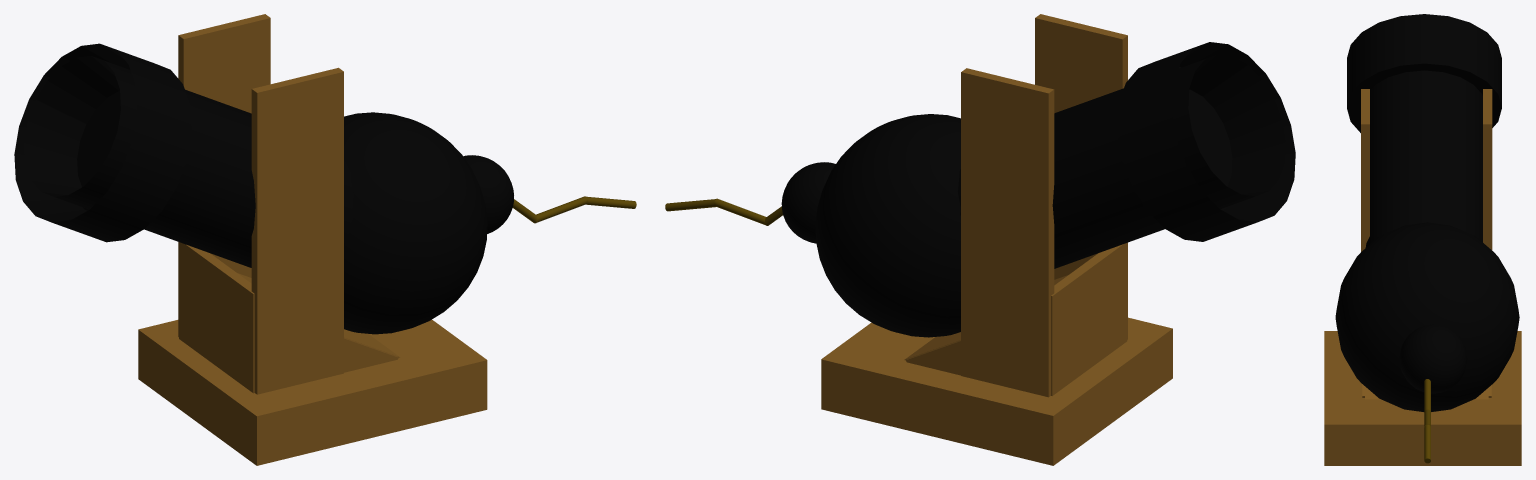
File: taihou.fbx
3 renders of one model, left to right at view 1: azimuth 30°, elevation 25°; view 2: azimuth 150°, elevation 25°; view 3: azimuth 270°, elevation 25°, orthographic. The views are drawn at different scales.
Visible parts, largest first — view 1: pCube2, pCube3, pSphere1, pCylinder1, pCylinder2, pCube5, pCube1, pSphere2, pCylinder6, pCube6; view 2: pCube1, pSphere1, pCube3, pCylinder1, pCylinder2, pCube5, pCube2, pSphere2, pCylinder6, pCube7; view 3: pSphere1, pCylinder1, pCube3, pCylinder2, pSphere2, pCube1, pCube2, pCylinder6.
Part boxes in pixels (bbox=[...]): pCube2: bbox=[251, 67, 343, 394]; pCube3: bbox=[138, 319, 487, 465]; pSphere1: bbox=[344, 112, 487, 334]; pCylinder1: bbox=[24, 56, 353, 267]; pCylinder2: bbox=[14, 43, 191, 242]; pCube5: bbox=[179, 242, 254, 393]; pCube1: bbox=[178, 14, 270, 336]; pSphere2: bbox=[463, 155, 513, 233]; pCylinder6: bbox=[512, 196, 636, 223]; pCube6: bbox=[344, 338, 398, 372]; pCube1: bbox=[961, 68, 1054, 397]; pSphere1: bbox=[815, 114, 960, 337]; pCube3: bbox=[821, 317, 1172, 465]; pCylinder1: bbox=[958, 54, 1285, 268]; pCylinder2: bbox=[1117, 42, 1295, 241]; pCube5: bbox=[1051, 243, 1127, 395]; pCube2: bbox=[1035, 14, 1127, 339]; pSphere2: bbox=[781, 162, 835, 243]; pCylinder6: bbox=[665, 198, 782, 225]; pCube7: bbox=[906, 340, 960, 375]; pSphere1: bbox=[1335, 222, 1519, 411]; pCylinder1: bbox=[1365, 70, 1482, 247]; pCube3: bbox=[1324, 331, 1521, 465]; pCylinder2: bbox=[1347, 14, 1501, 132]; pSphere2: bbox=[1399, 324, 1467, 393]; pCube1: bbox=[1483, 89, 1492, 250]; pCube2: bbox=[1361, 89, 1369, 251]; pCylinder6: bbox=[1424, 379, 1430, 463].
Size of the model in its own units: 4.34 by 2.7 by 1.48.
